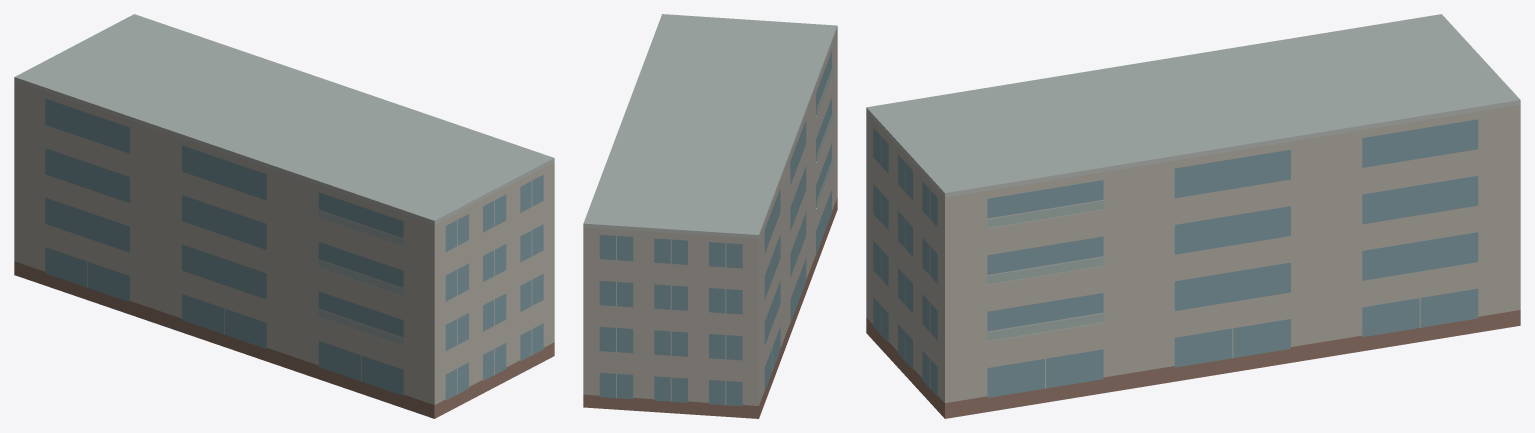
The model's file is survey-upis-32858087.glb.
3 views of the same model, side by side, from view 1: azimuth 30°, elevation 25°; view 2: azimuth 150°, elevation 25°; view 3: azimuth 270°, elevation 25° (orthographic). The views are drawn at different scales.
Visible parts, largest first — view 1: survey-upis-32858087.tmp; view 2: survey-upis-32858087.tmp; view 3: survey-upis-32858087.tmp.
Part boxes in pixels (x1,y1,x2,y2): survey-upis-32858087.tmp: (14,14,554,418); survey-upis-32858087.tmp: (583,14,837,418); survey-upis-32858087.tmp: (866,14,1520,418).
Size of the model in its own units: 20.78 by 12.2 by 32.06.
